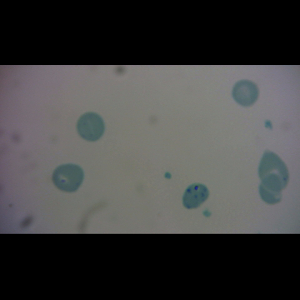aggregate reticulocyte: (181, 182, 211, 211)
erythrocyte: (51, 162, 85, 193), (231, 79, 260, 108), (258, 173, 284, 205)
punctate reticulocyte: (258, 148, 291, 192), (76, 111, 105, 142)
